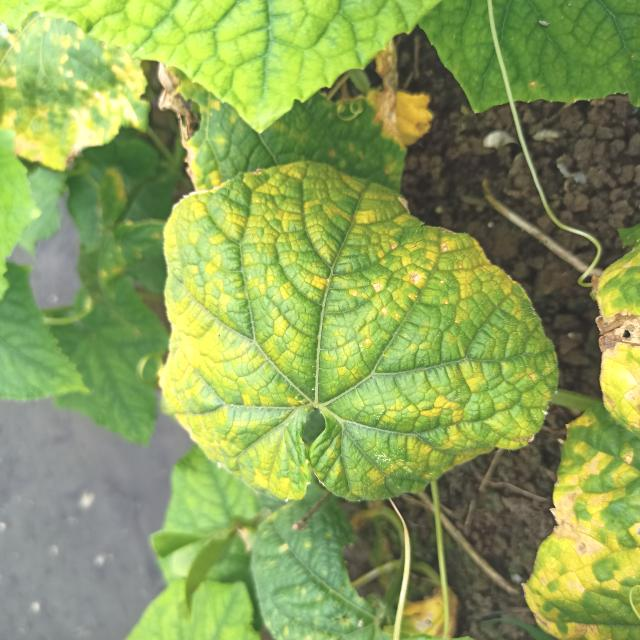disease_cucumber: (155, 163, 538, 498)
